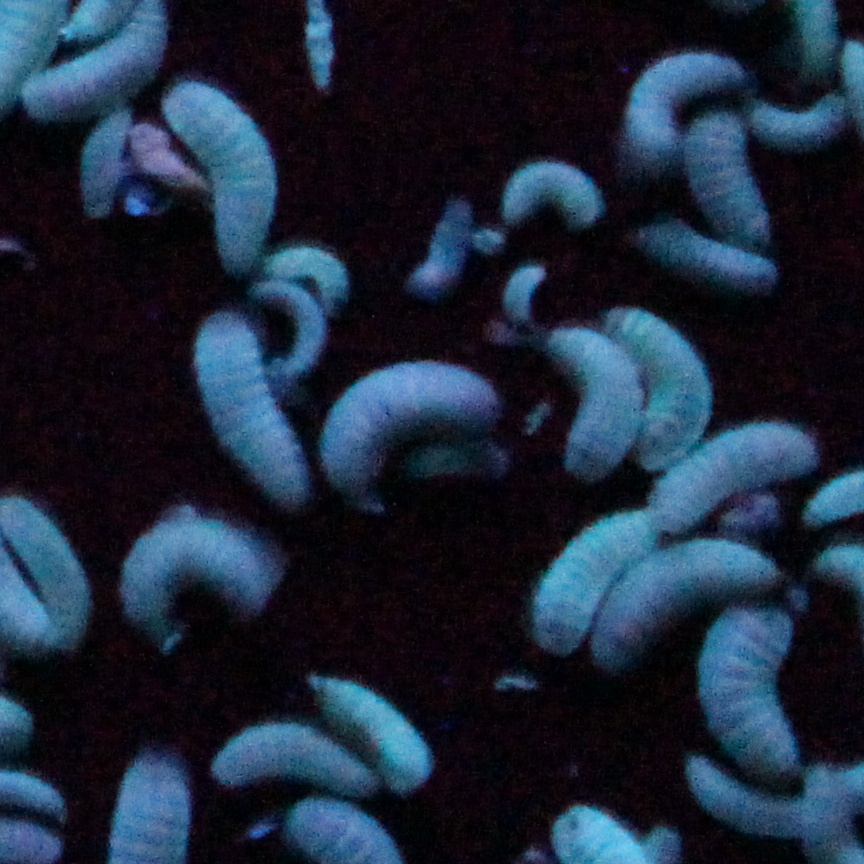larve: (325, 359, 494, 489), (586, 540, 765, 656), (191, 321, 301, 508), (165, 76, 266, 262), (125, 512, 268, 640), (699, 608, 799, 777), (655, 420, 812, 521), (537, 507, 647, 644), (612, 310, 703, 466), (309, 672, 429, 782), (552, 321, 632, 482), (627, 59, 750, 158), (206, 728, 371, 792), (681, 751, 806, 831), (688, 121, 765, 240), (637, 225, 773, 290), (252, 271, 324, 376), (507, 162, 601, 235), (737, 92, 847, 146), (262, 244, 348, 307), (81, 115, 125, 213)
